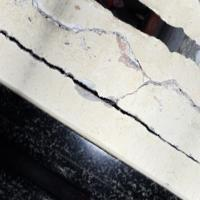crack: (0, 7, 199, 199)
